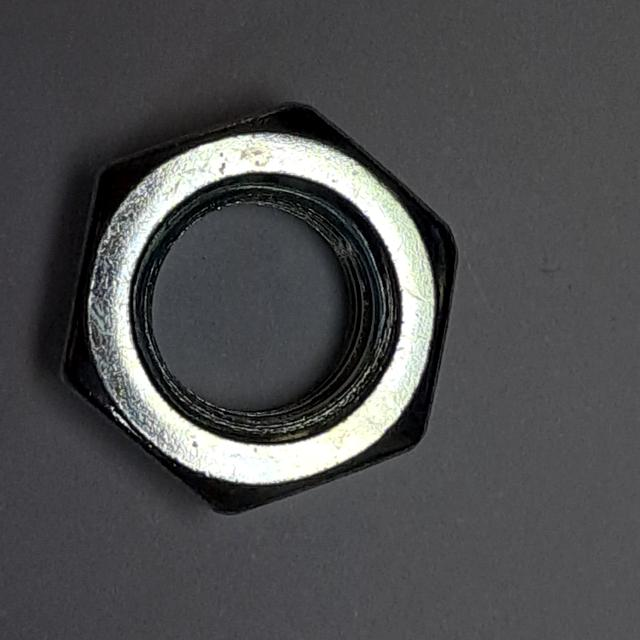Excellent: (51, 89, 468, 530)
